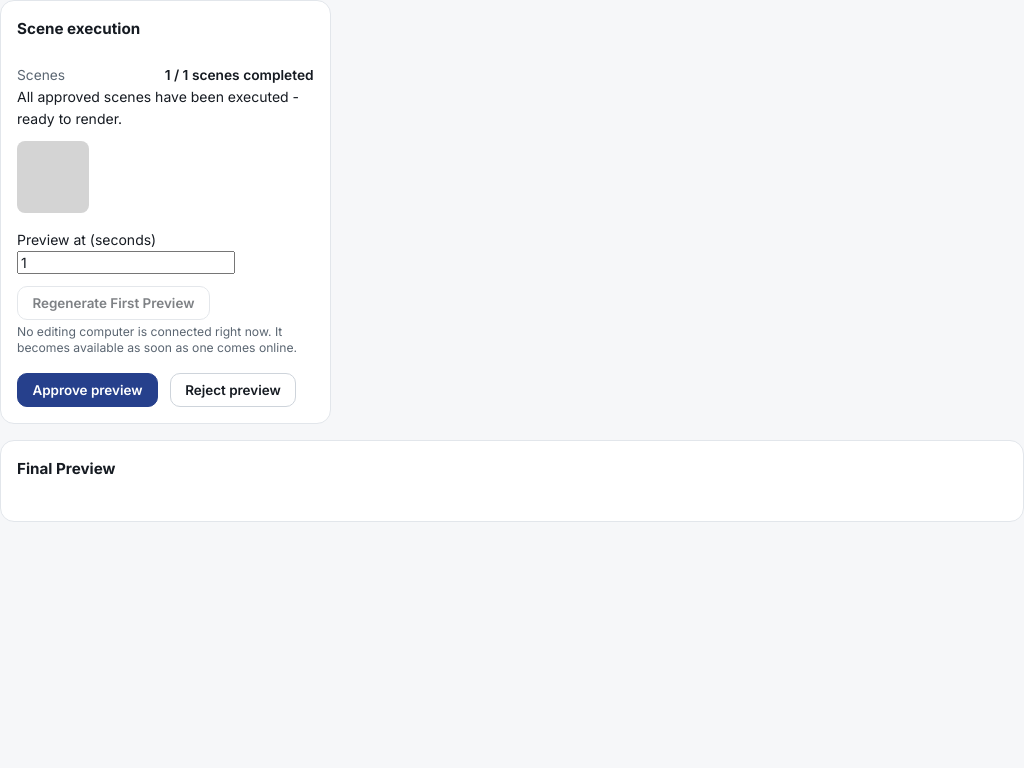
Test: ProjectPreviewTab › rejects a preview and reflects the session's new FAILED status - never silently continues as if approved
This screenshot has width=1024, height=768.
Click the button "Reject preview" at (233, 390), box [170,373,296,407]
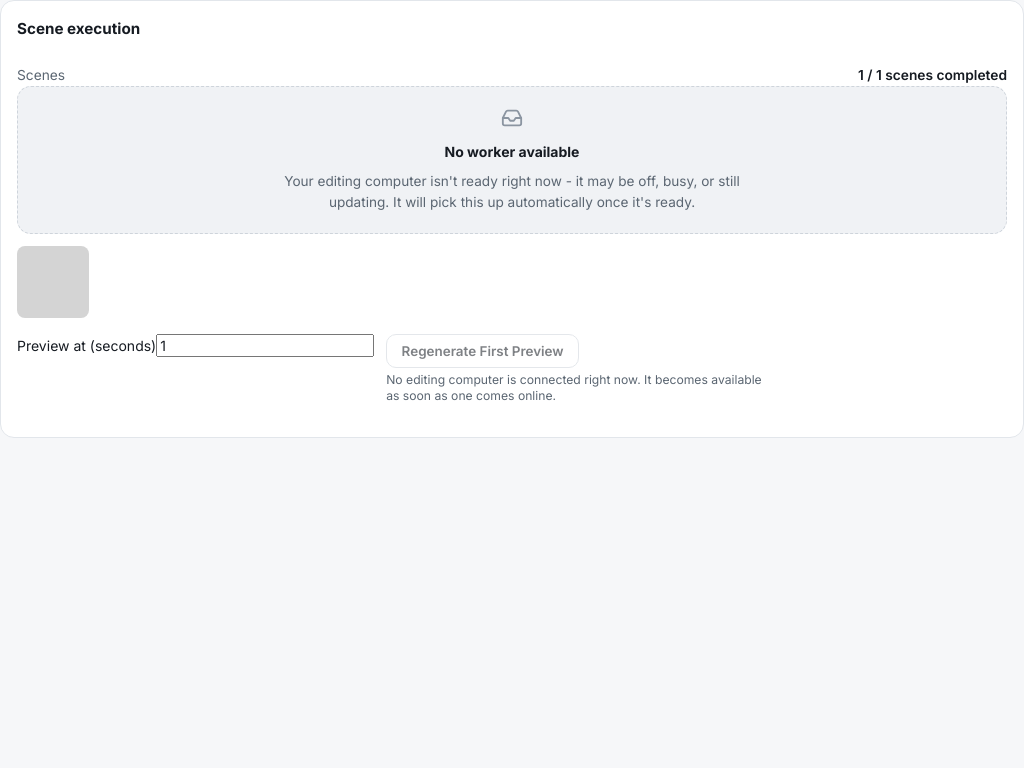
Check: the button "Approve preview" is gone
